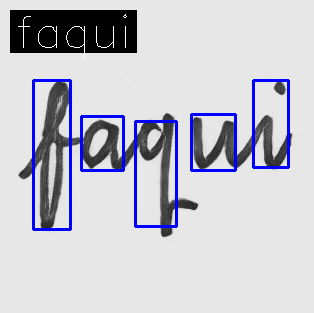a: (78, 117, 121, 172)
f: (35, 79, 74, 232)
i: (255, 80, 296, 171)
q: (135, 111, 180, 241)
u: (188, 115, 240, 172)
